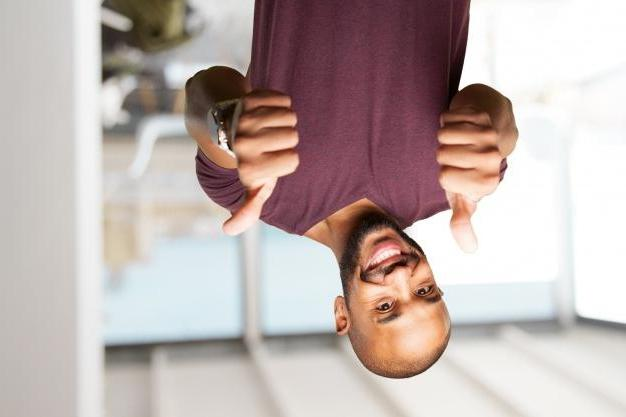thumbsdown: (223, 89, 299, 236), (436, 108, 502, 255)
